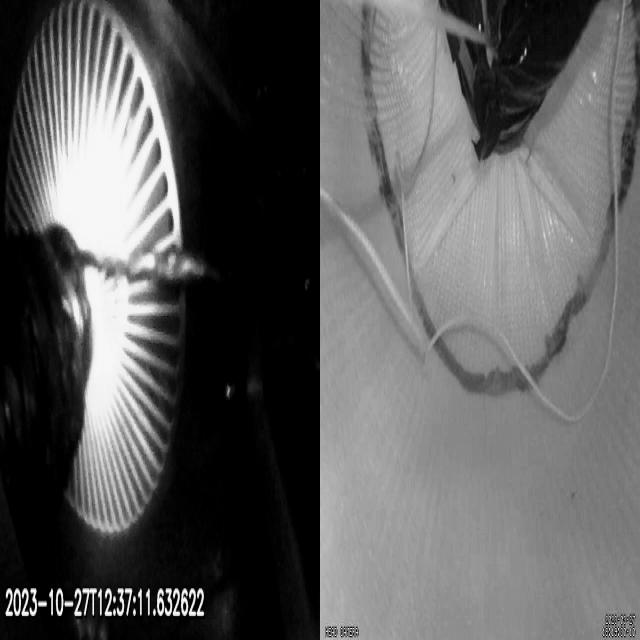red-circle: (360, 1, 640, 401)
